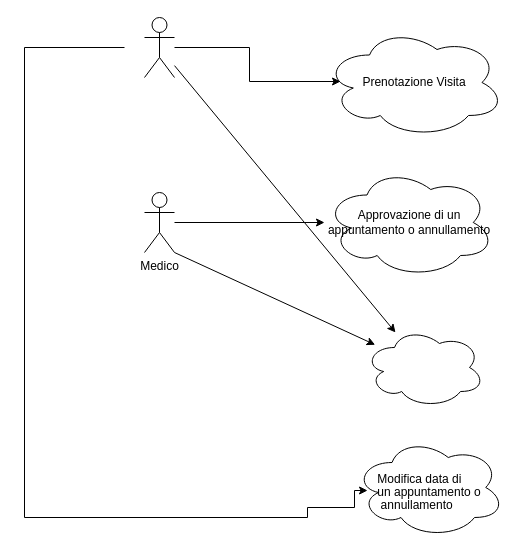
Image size: 522x555. Some labels were removed from this diagram. The centre of each missing label's shape, as x and y in pixels:
"Creazione di un profilo" belongs at (x=424, y=367).
"Paziente" belongs at (x=159, y=47).
